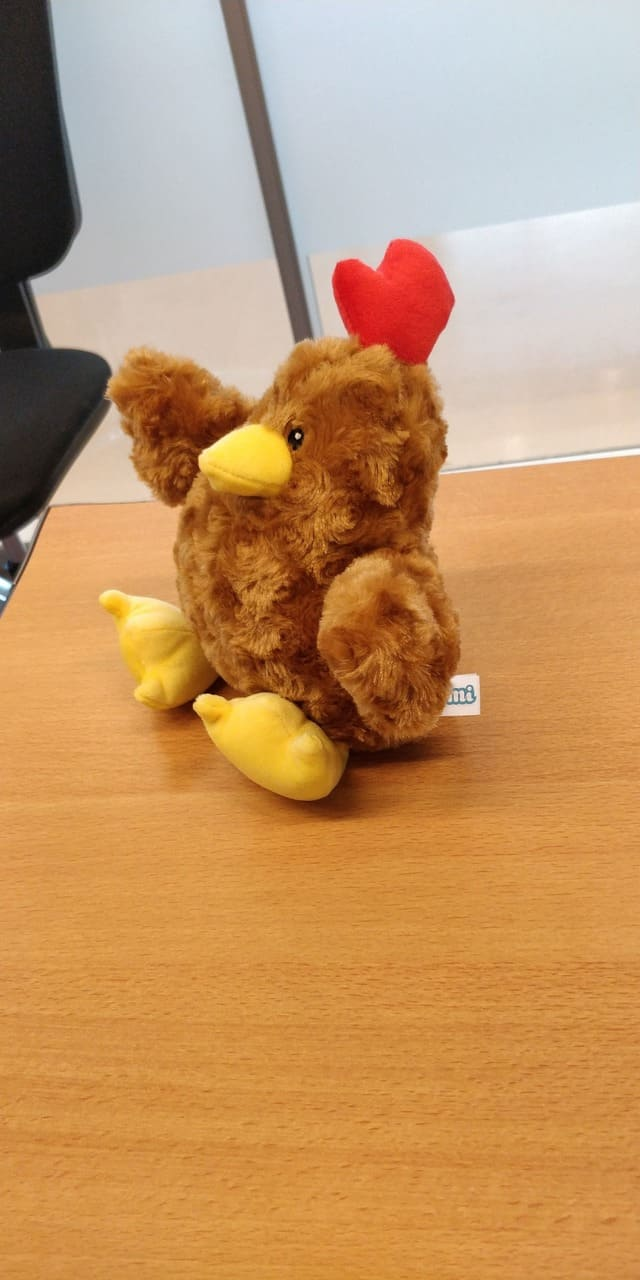fakeChicken: (96, 236, 462, 803)
